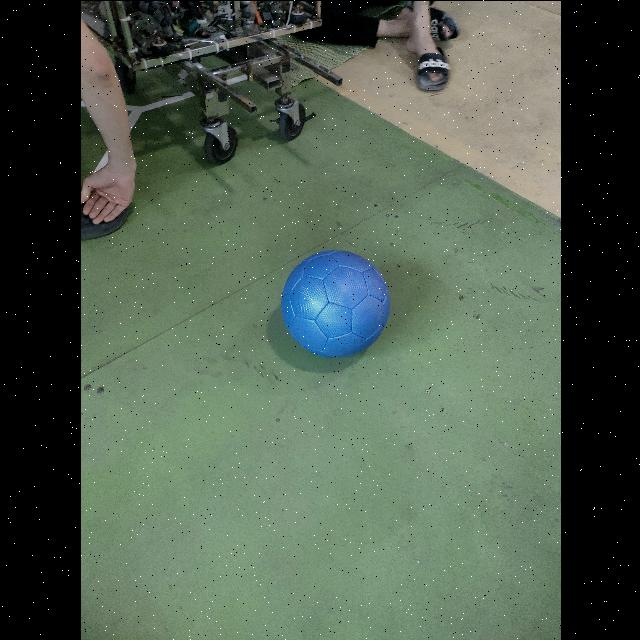B: (280, 250, 389, 356)
